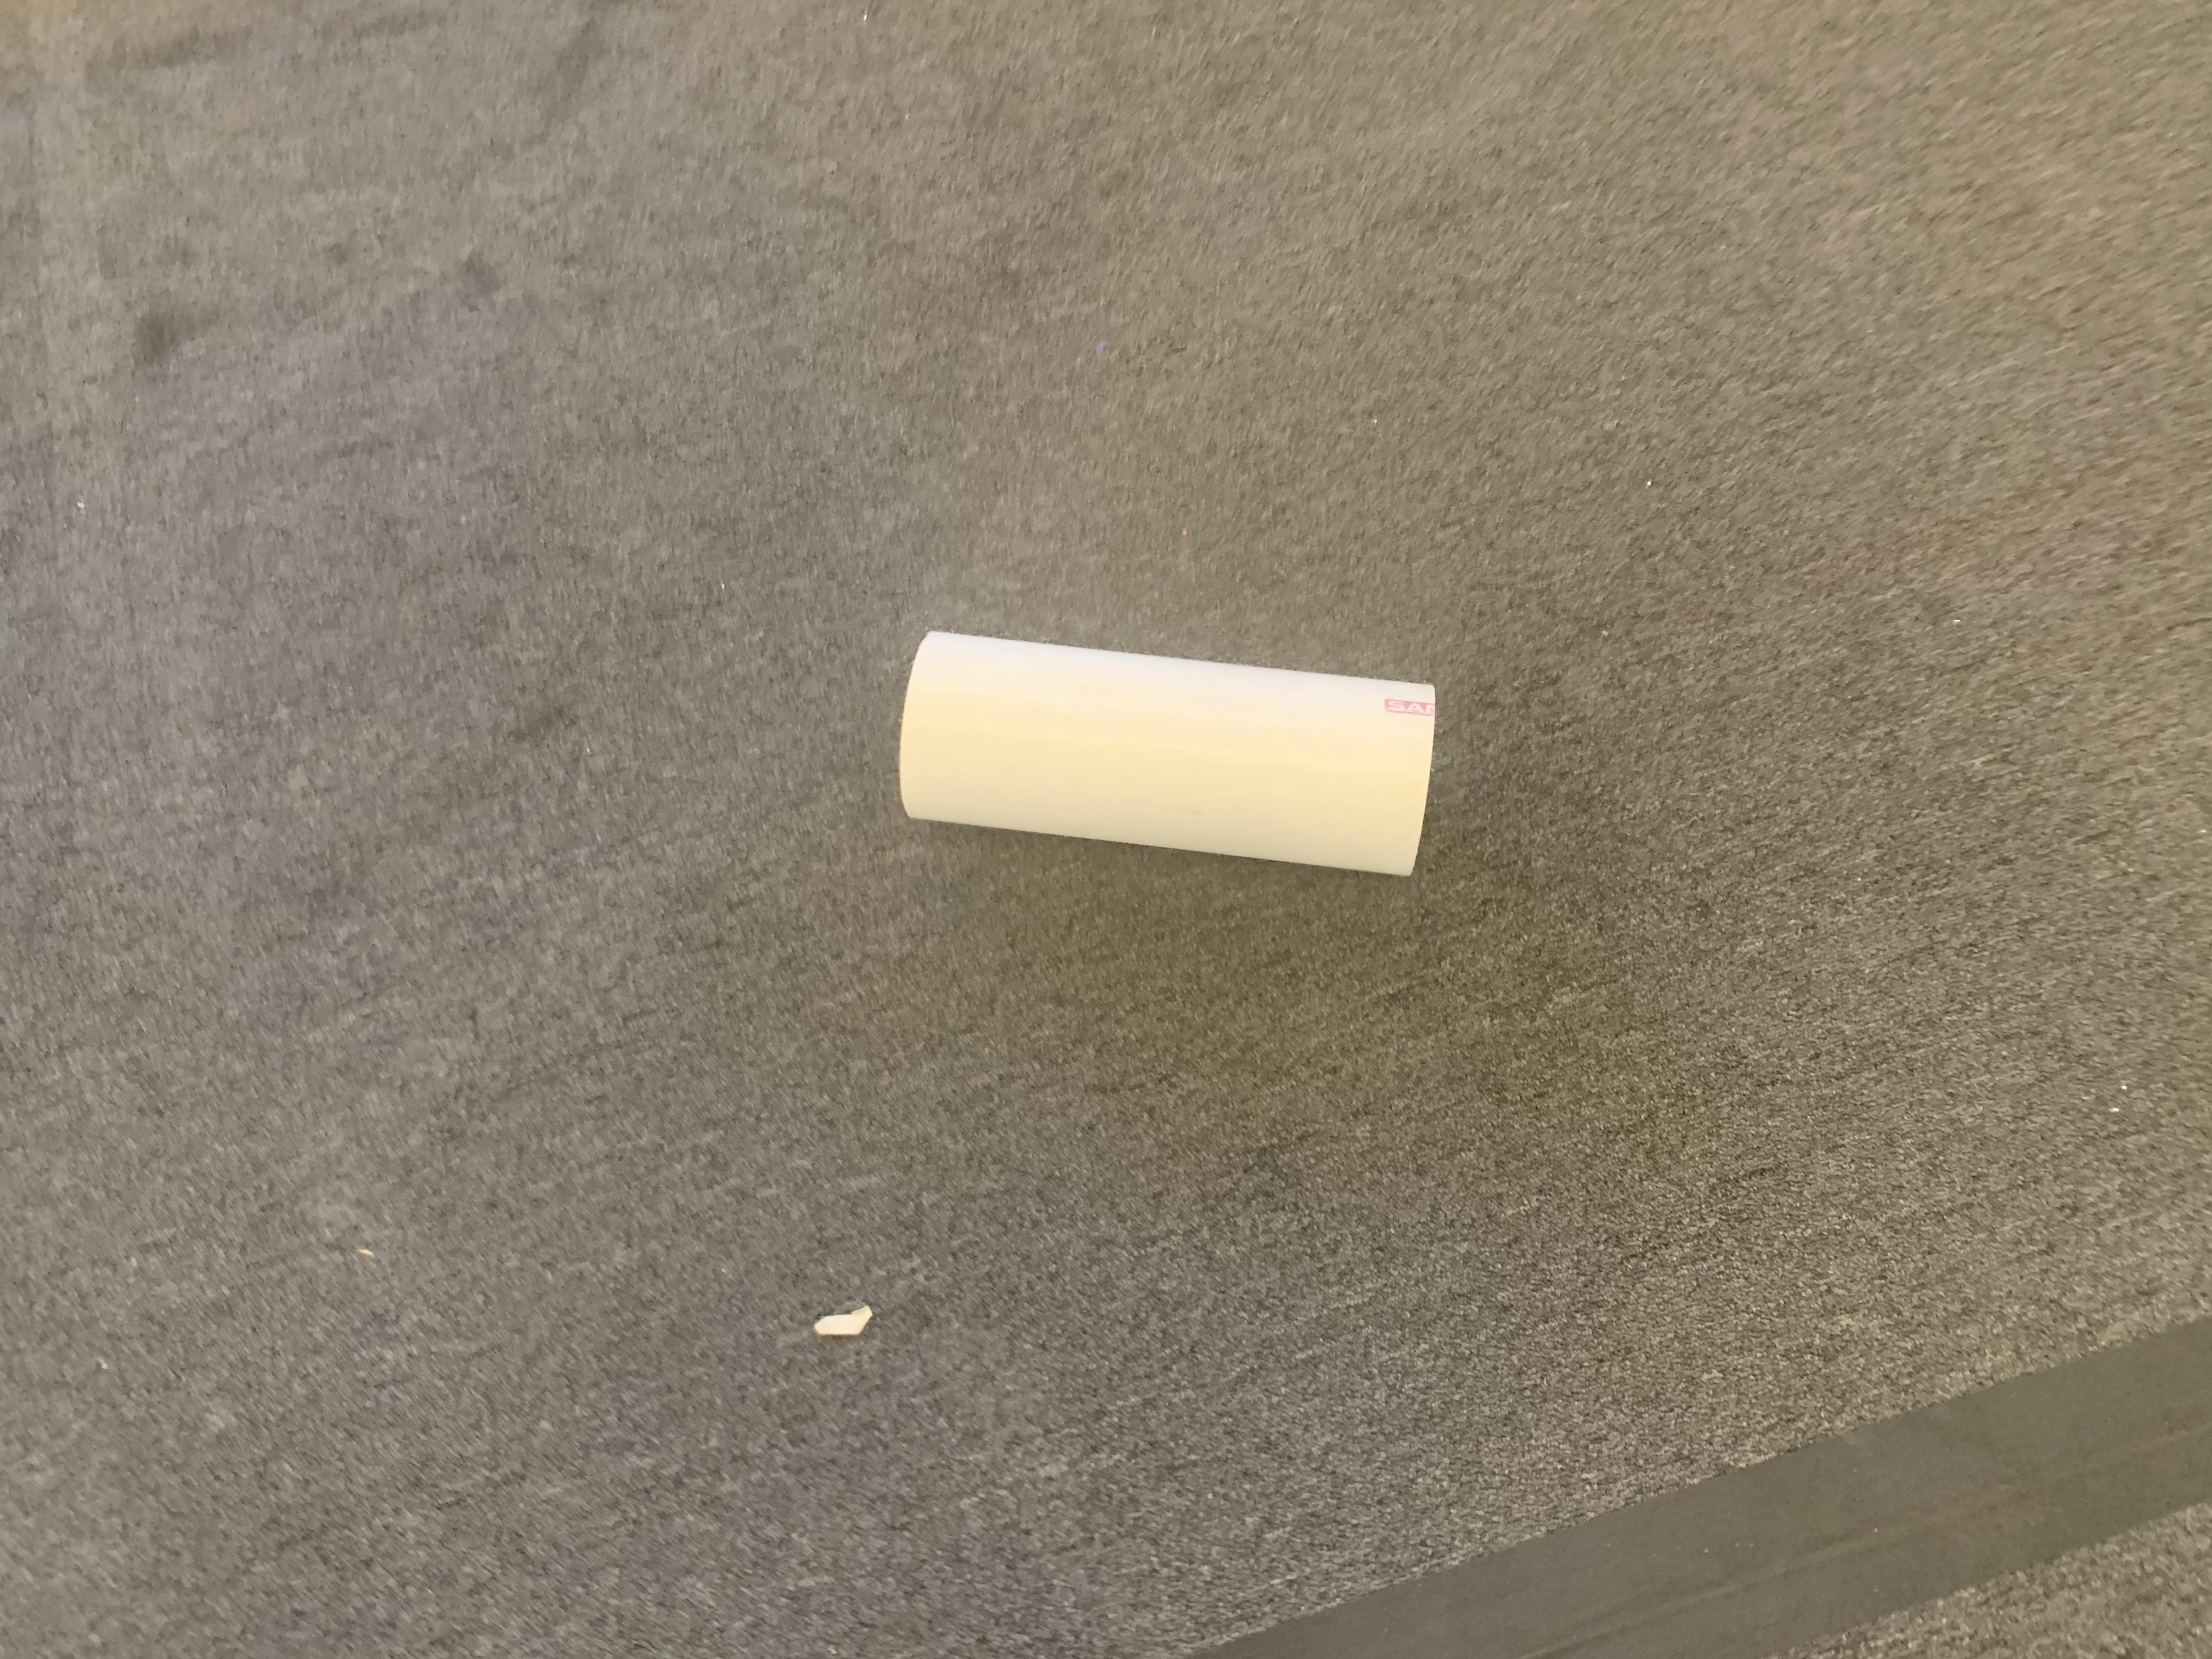coral: (894, 626, 1437, 880)
